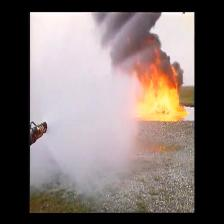fire: (139, 75, 182, 119)
smoke: (96, 15, 167, 72)
